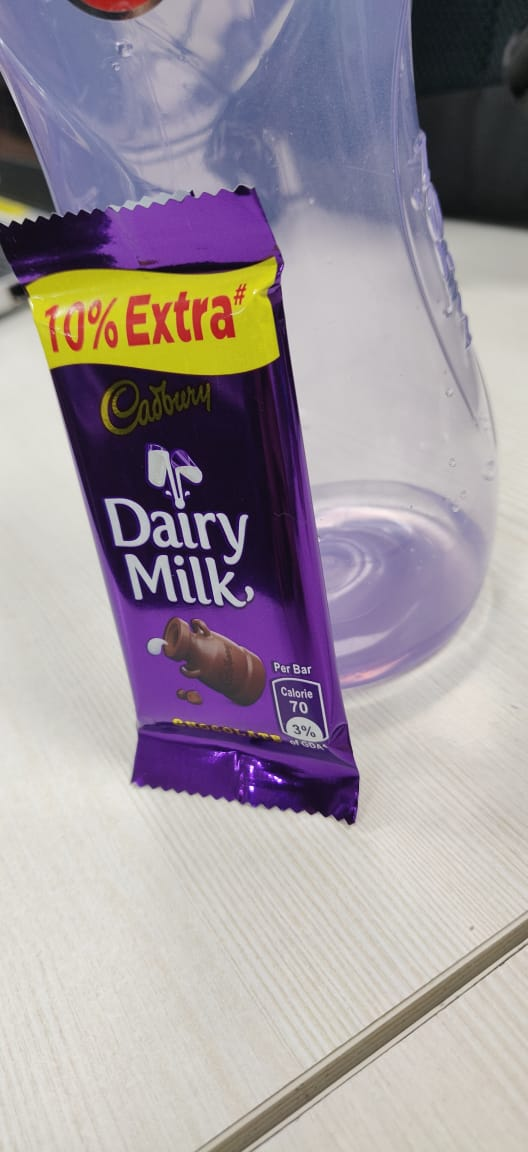dairy milk: (12, 184, 406, 883)
